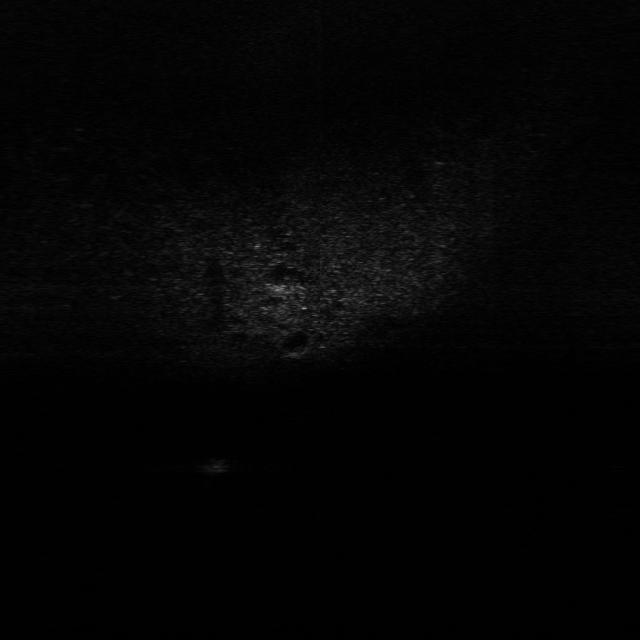cylinder: (199, 456, 232, 477)
